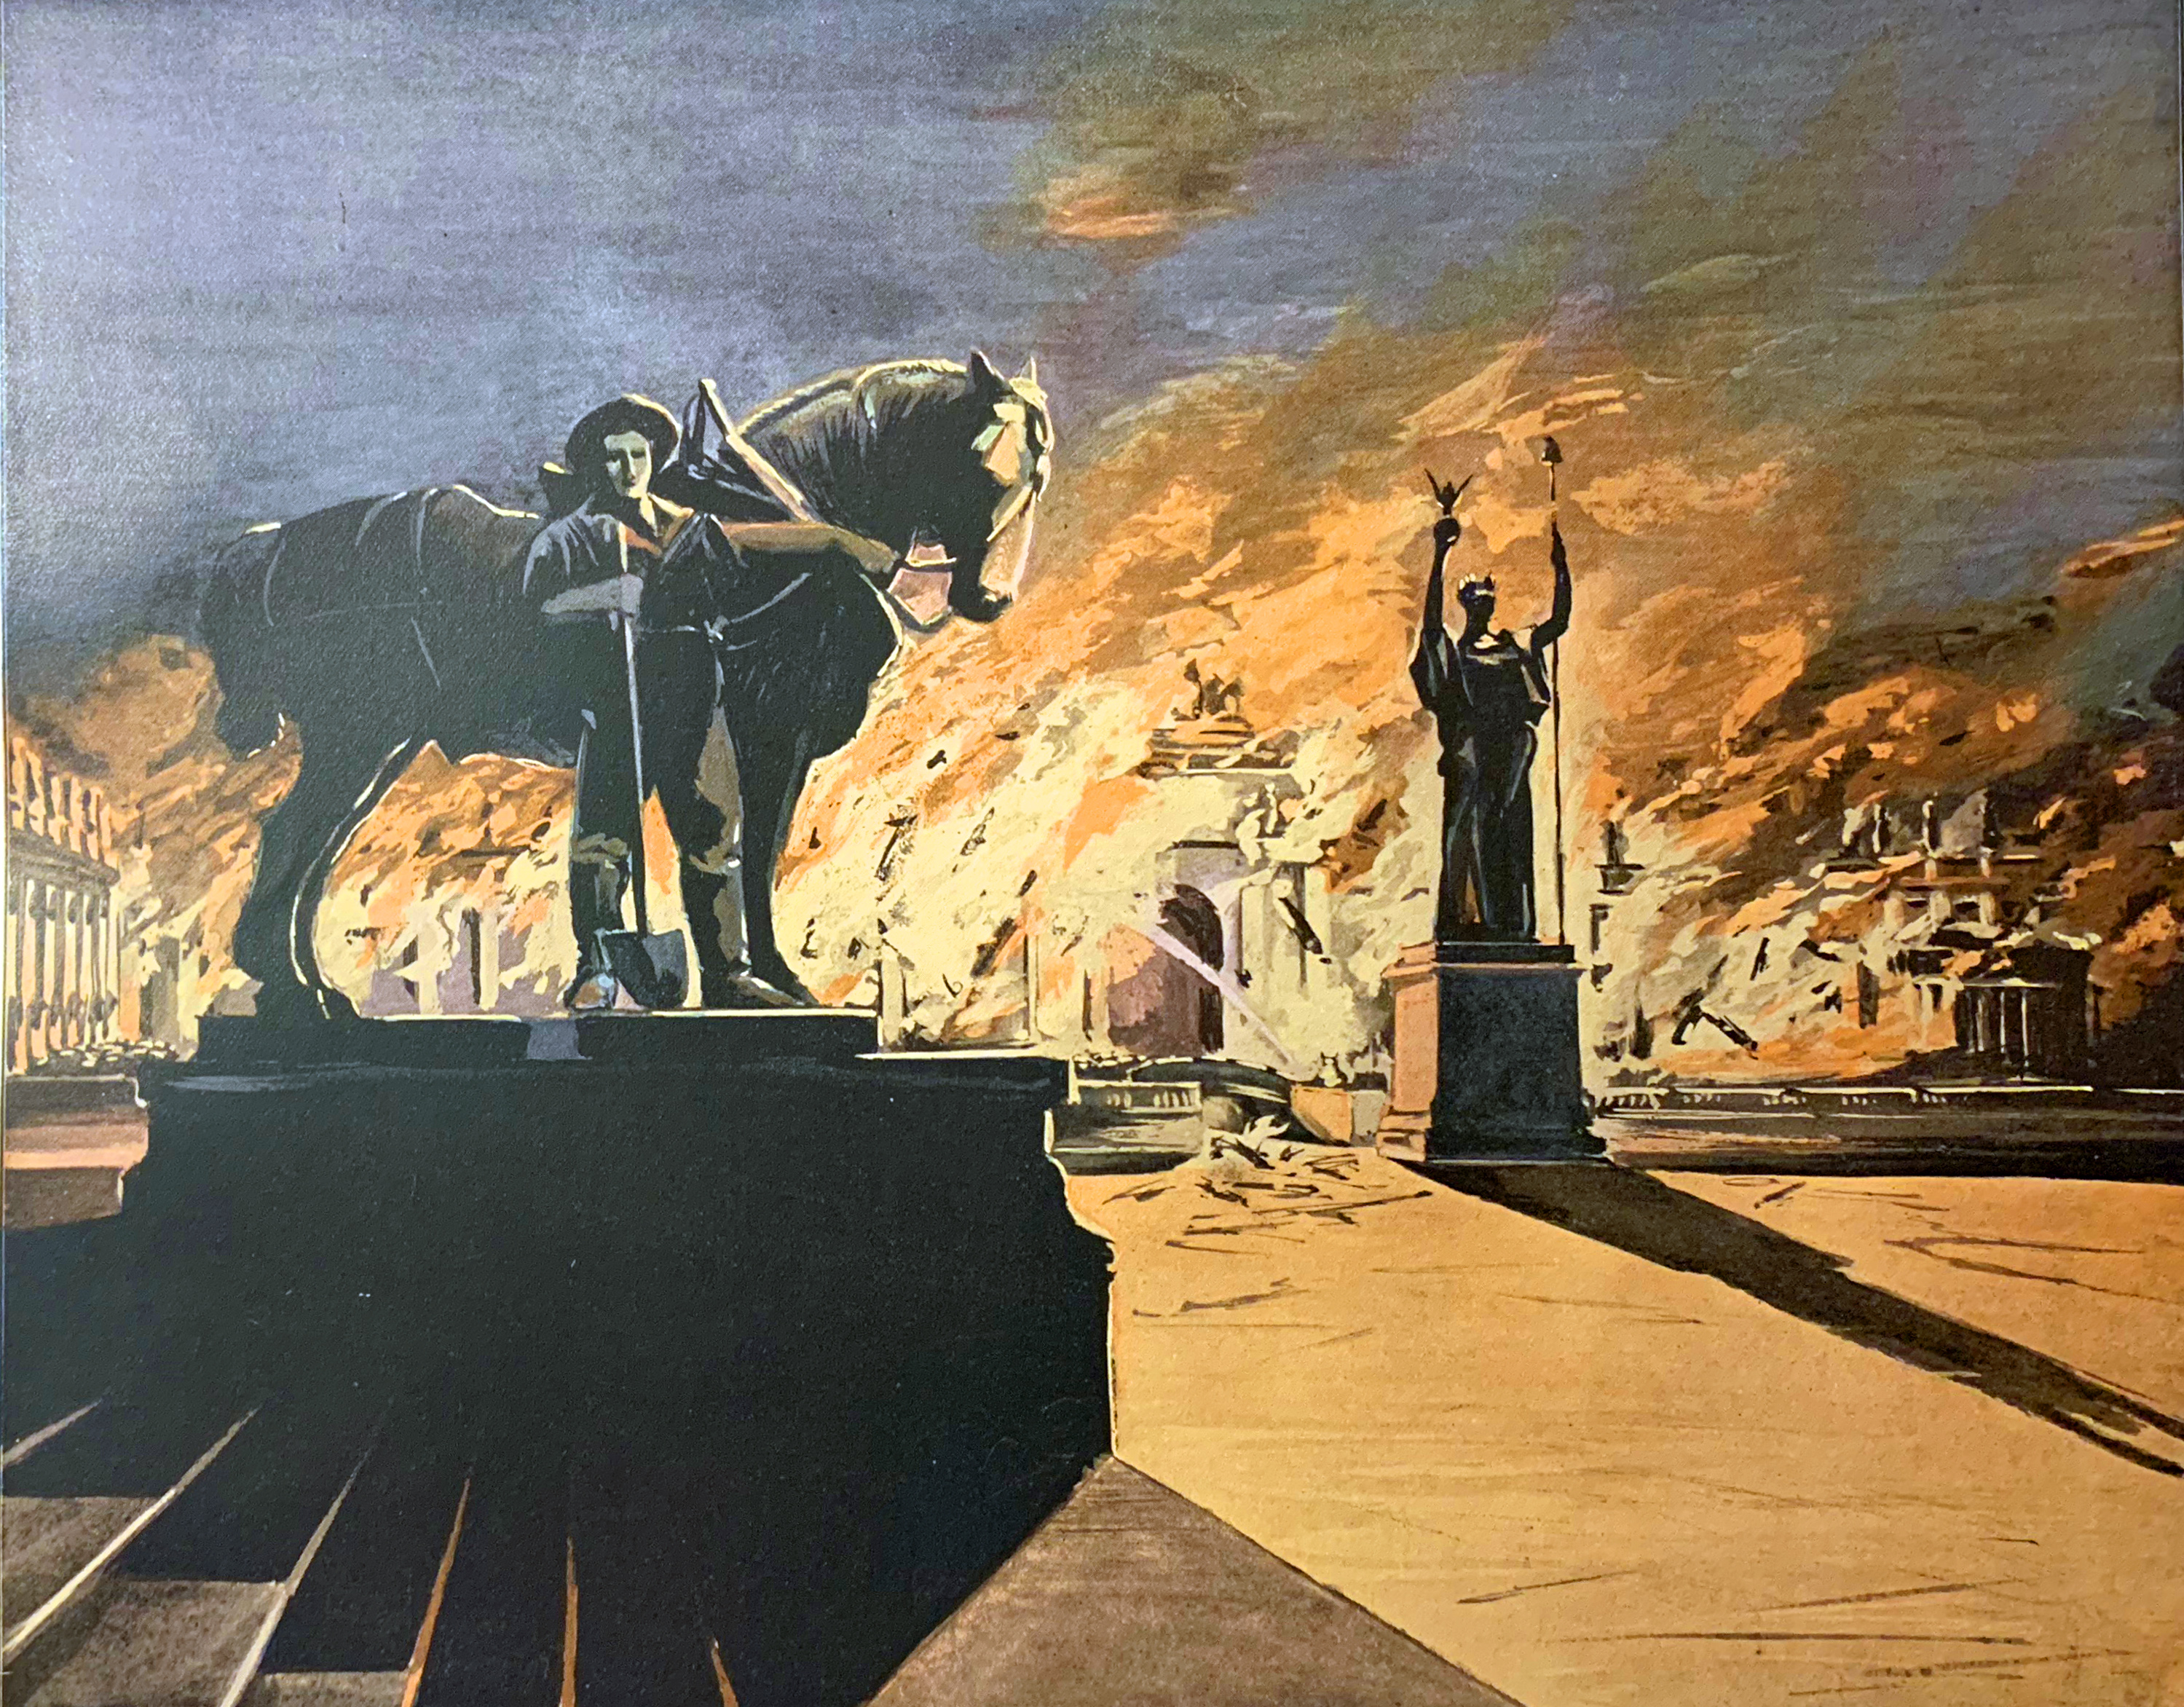Fire: (918, 682, 1088, 899)
